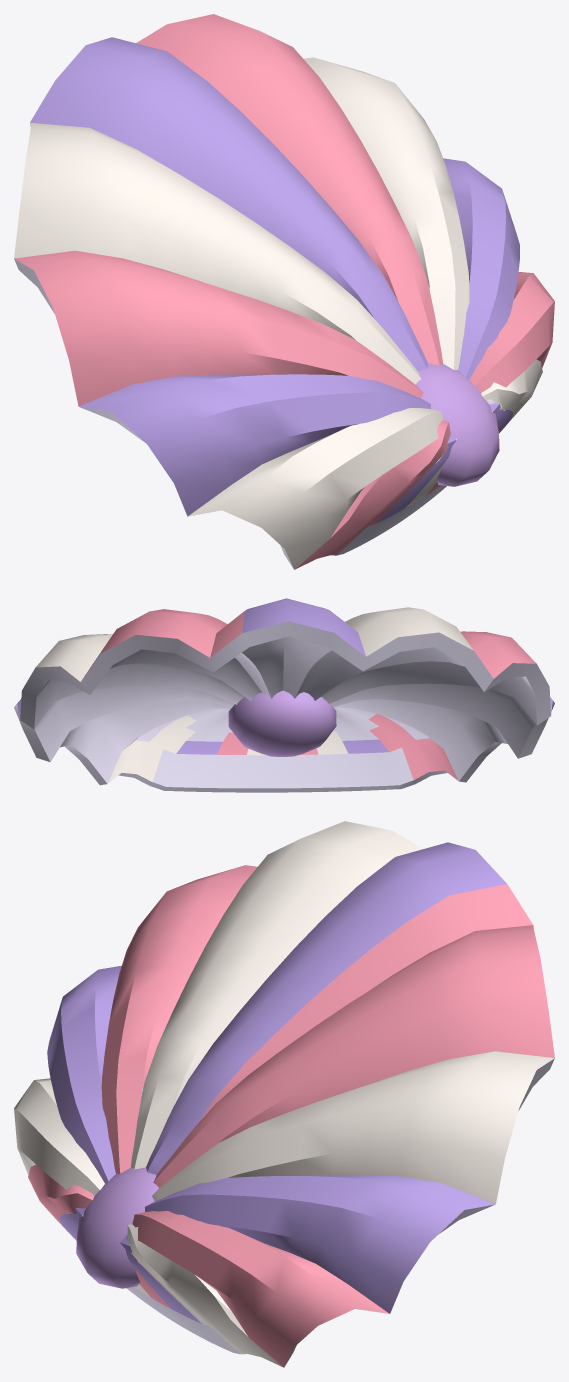
File: concha-listrada.glb
The picture shows the model from 3 angles, top to bottom: view 1: azimuth 30°, elevation 25°; view 2: azimuth 150°, elevation 25°; view 3: azimuth 270°, elevation 25°; orthographic projection. The views are drawn at different scales.
Visible parts, largest first — view 1: concha-listrada; view 2: concha-listrada; view 3: concha-listrada.
Part boxes in pixels (bbox=[...]): concha-listrada: bbox=[14, 14, 554, 569]; concha-listrada: bbox=[14, 598, 554, 792]; concha-listrada: bbox=[14, 821, 554, 1367].
Bounding box in the file's own units: 0.0881 × 0.0584 × 0.0765.
